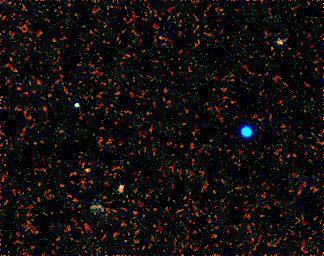star: (72, 155, 102, 185)
